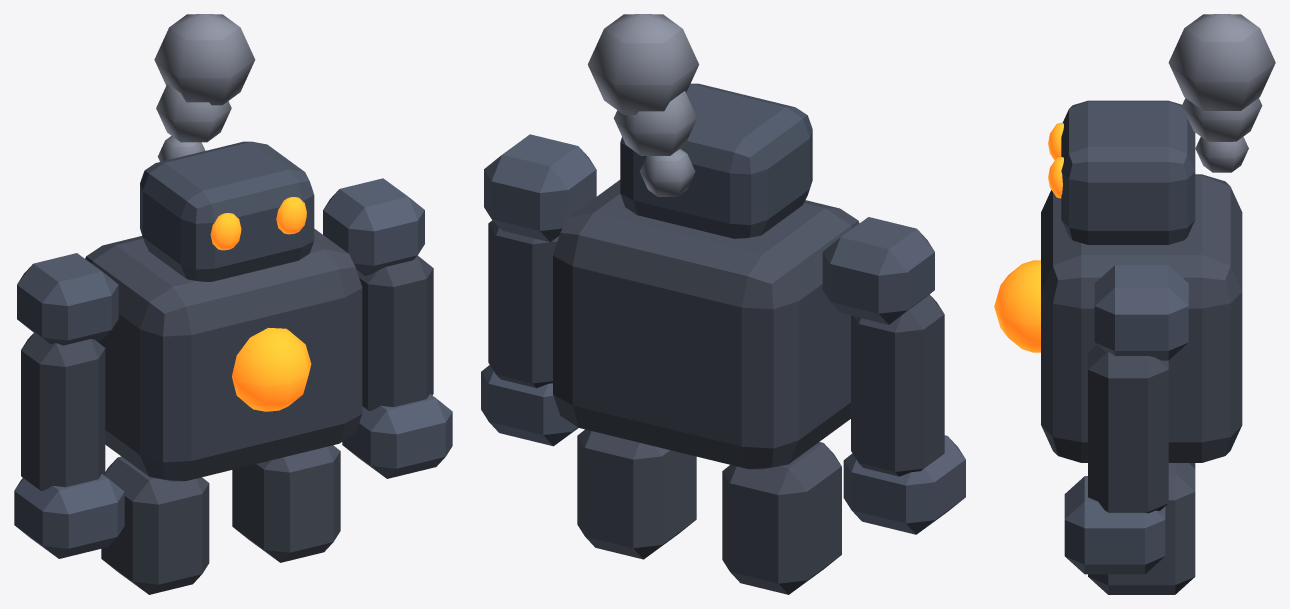
Rendered from monster_iron_golem.glb.
The picture shows the model from 3 angles, left to right: view 1: azimuth 30°, elevation 25°; view 2: azimuth 150°, elevation 25°; view 3: azimuth 270°, elevation 25°; orthographic projection. The views are drawn at different scales.
Parts seen in each view (by area): view 1: body_t0_palette, arml_t0_palette, armr_t0_palette, legl_t0_palette, legr_t0_palette, body_t0_fire; view 2: body_t0_palette, arml_t0_palette, armr_t0_palette, legl_t0_palette, legr_t0_palette; view 3: body_t0_palette, armr_t0_palette, legr_t0_palette, body_t0_fire.
Boxes of the visible parts, x1,y1,x2,y2 form: body_t0_palette: (85,14,362,481); arml_t0_palette: (14,253,124,558); armr_t0_palette: (323,178,452,478); legl_t0_palette: (101,456,209,594); legr_t0_palette: (232,445,340,562); body_t0_fire: (210,197,311,411); body_t0_palette: (553,14,859,469); arml_t0_palette: (822,217,965,534); armr_t0_palette: (481,134,596,446); legl_t0_palette: (722,442,841,594); legr_t0_palette: (577,429,696,559); body_t0_palette: (1041,14,1275,462); armr_t0_palette: (1064,265,1188,574); legr_t0_palette: (1088,463,1195,594); body_t0_fire: (994,122,1063,352).
Bounding box in the file's own units: 0.375 × 0.45 × 0.21.
